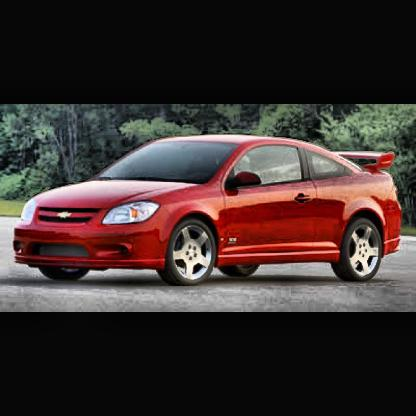Chevrolet Cobalt SS 2010: (12, 135, 405, 288)
